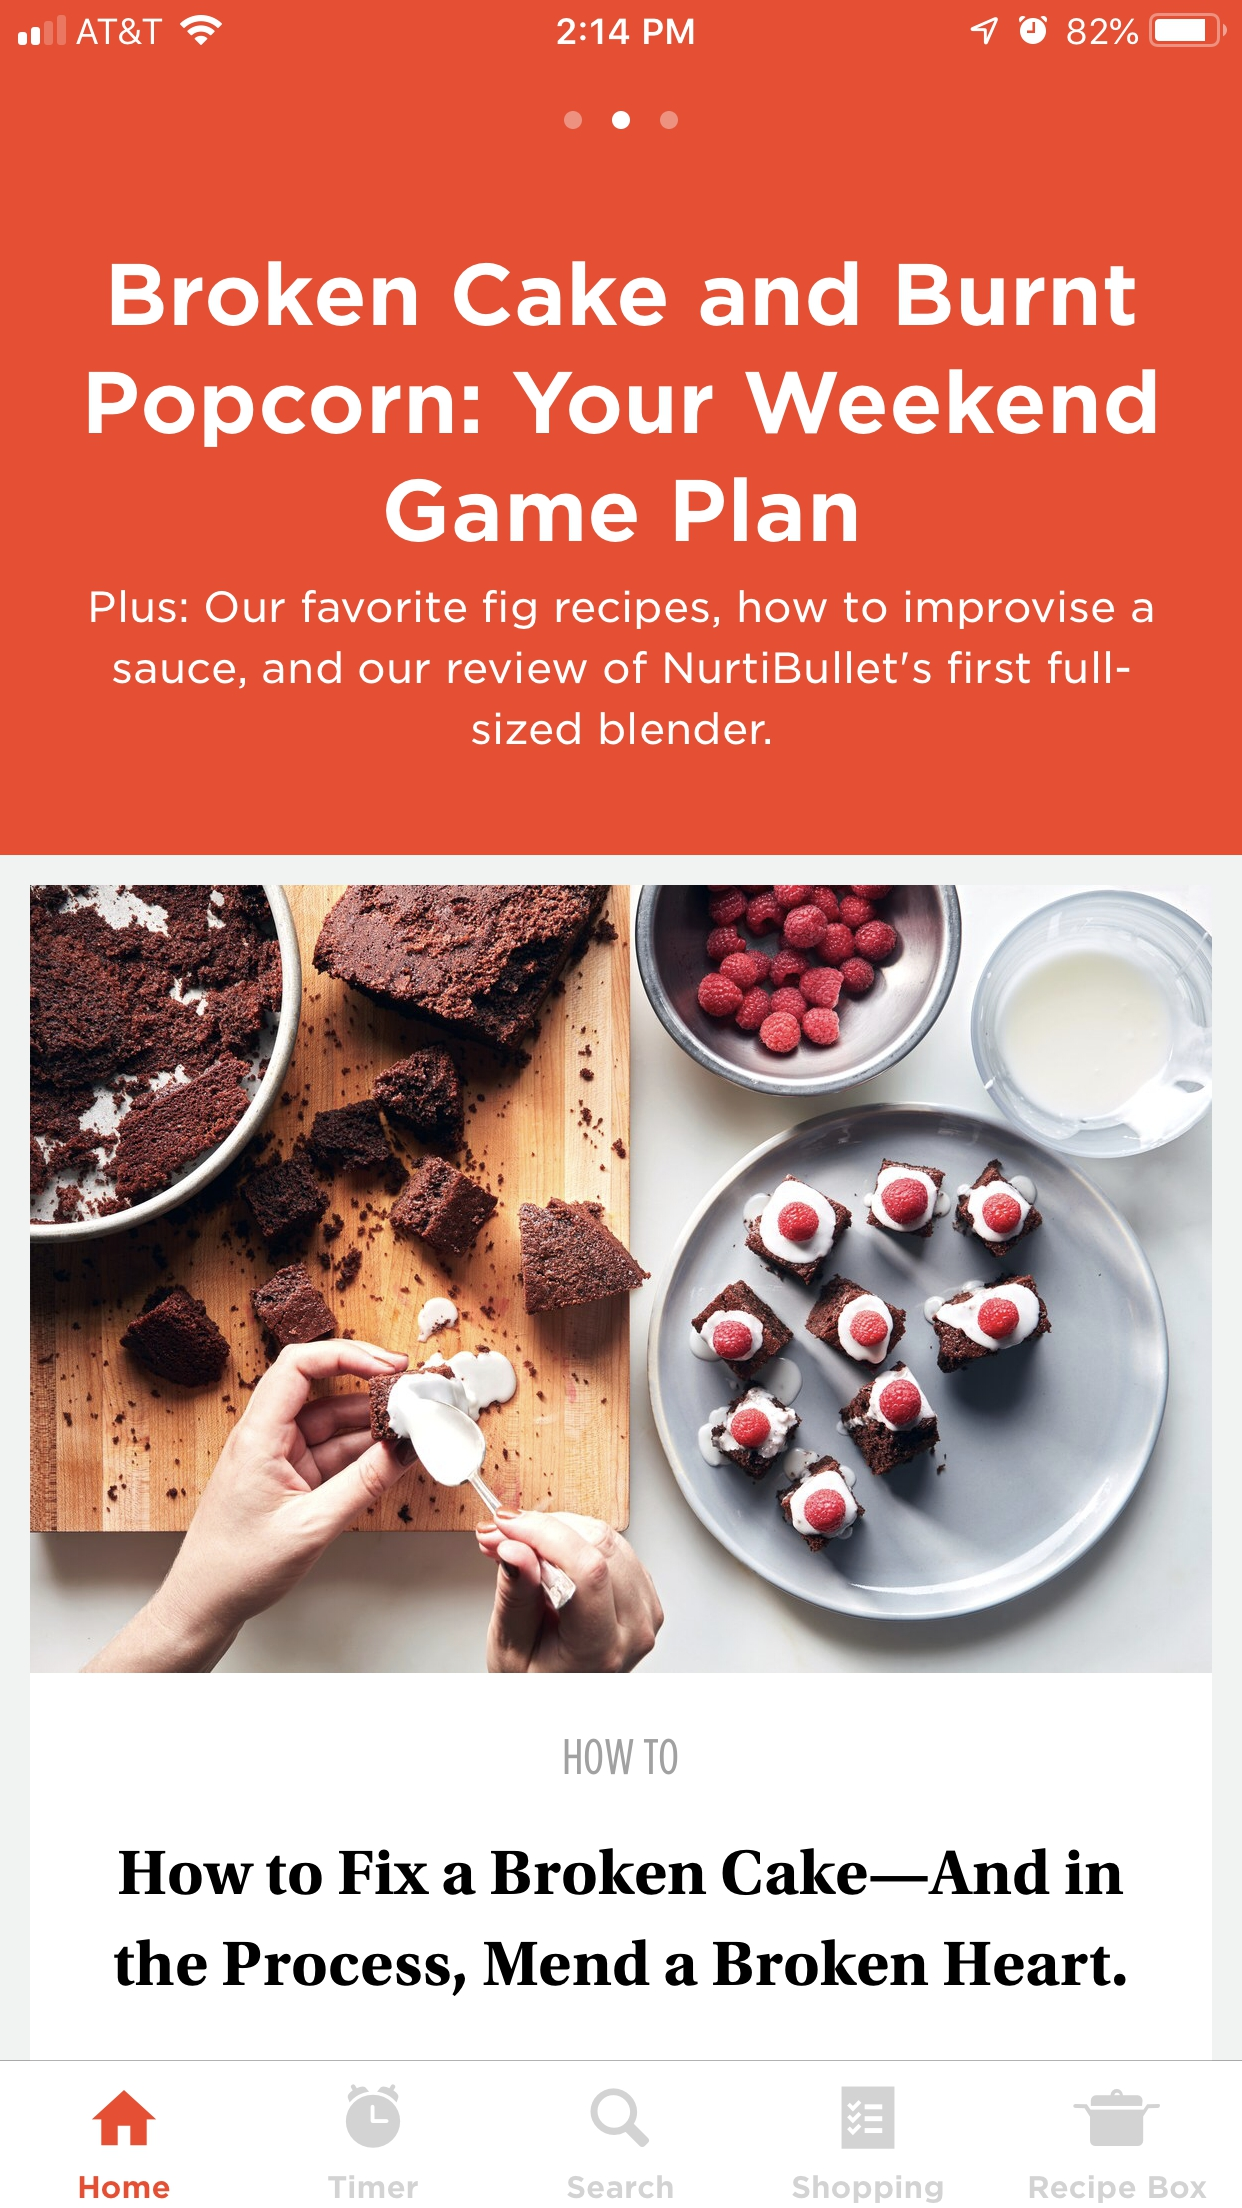Icon: (93, 2090, 158, 2147), (590, 2088, 651, 2147), (346, 2084, 400, 2149), (842, 2087, 896, 2150)
Image: (30, 886, 1212, 1673), (1074, 2088, 1162, 2147)
PageIndicator: (563, 111, 679, 130)
Text: (89, 261, 1157, 544), (91, 590, 1154, 748), (114, 1847, 1127, 1996), (1030, 2175, 1207, 2203), (792, 2175, 943, 2203), (564, 1739, 678, 1776), (567, 2175, 673, 2199), (328, 2175, 420, 2199), (80, 2175, 171, 2199)
UpperTaskBar: (2, 2, 1242, 49)
